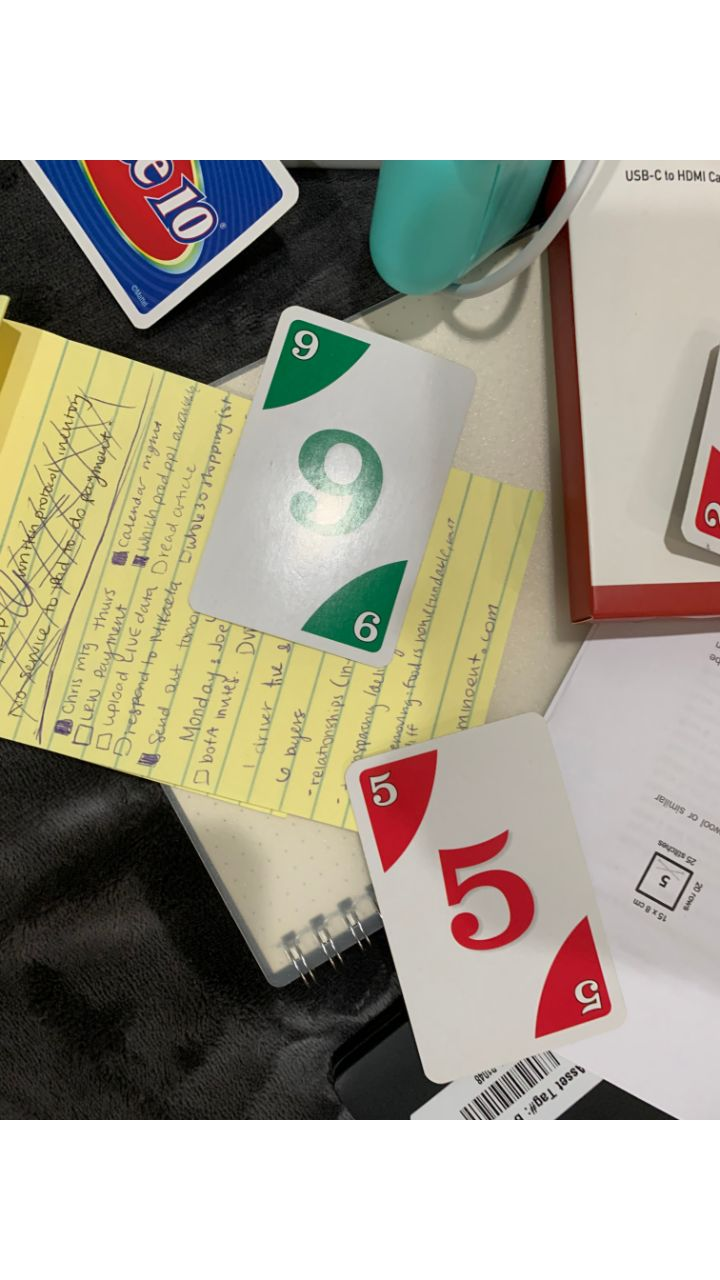five: (350, 711, 625, 1076)
nine: (195, 306, 475, 666)
